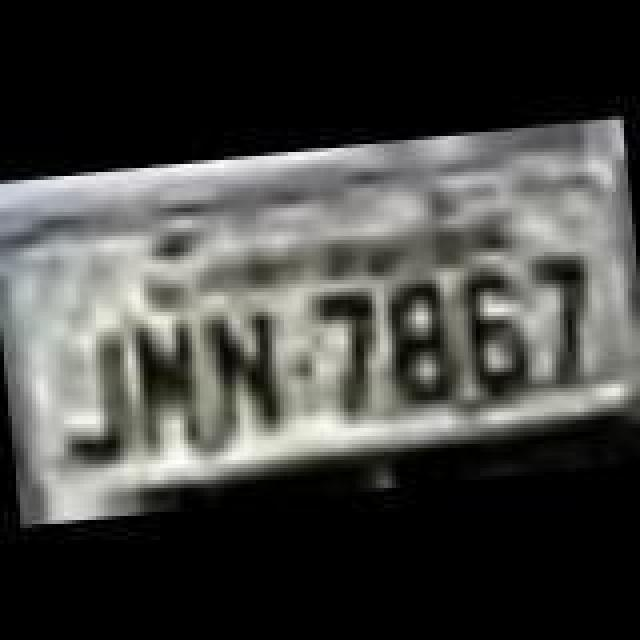6: (456, 258, 536, 398)
7: (312, 280, 392, 424), (522, 248, 598, 384)
8: (380, 276, 460, 412)
J: (52, 322, 132, 462)
M: (122, 310, 214, 458)
N: (206, 300, 290, 444)
